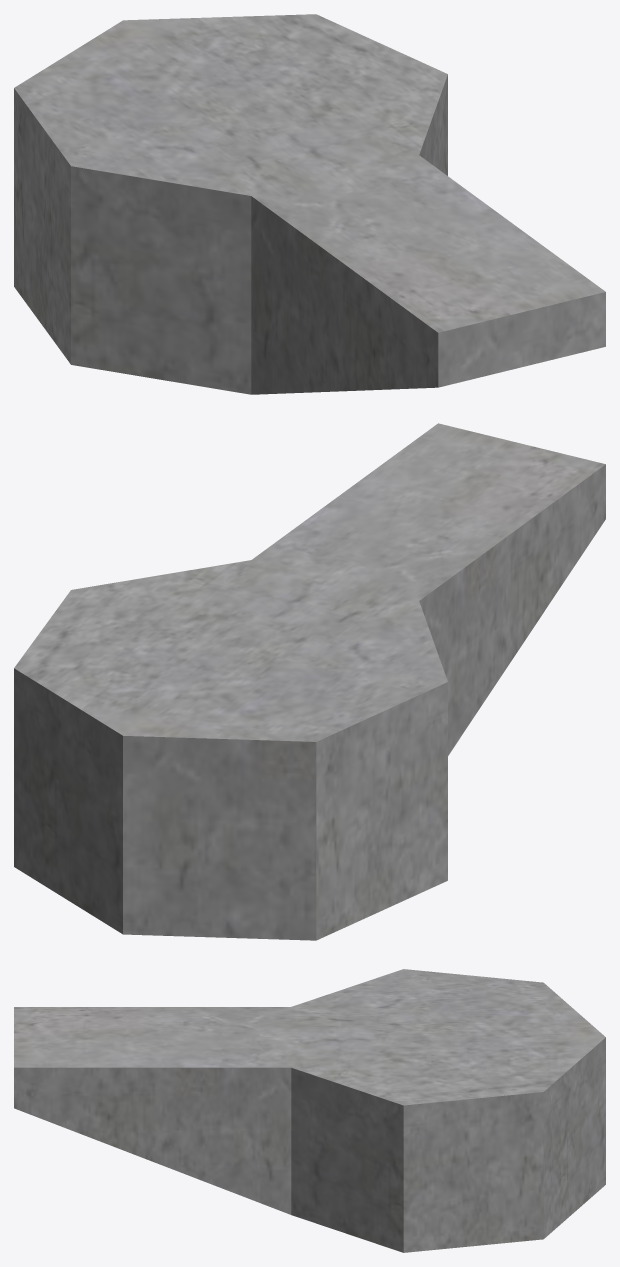
Rendered from Manija_05.glb.
The picture shows the model from 3 angles, top to bottom: view 1: azimuth 30°, elevation 25°; view 2: azimuth 150°, elevation 25°; view 3: azimuth 270°, elevation 25°; orthographic projection. The views are drawn at different scales.
Parts seen in each view (by area): view 1: Manija_05; view 2: Manija_05; view 3: Manija_05.
Boxes of the visible parts, x1,y1,x2,y2 form: Manija_05: [14, 14, 605, 394]; Manija_05: [14, 423, 605, 940]; Manija_05: [14, 969, 605, 1252].
Bounding box in the file's own units: 0.0581 × 0.0293 × 0.1066.
1 material, 1 textured.
